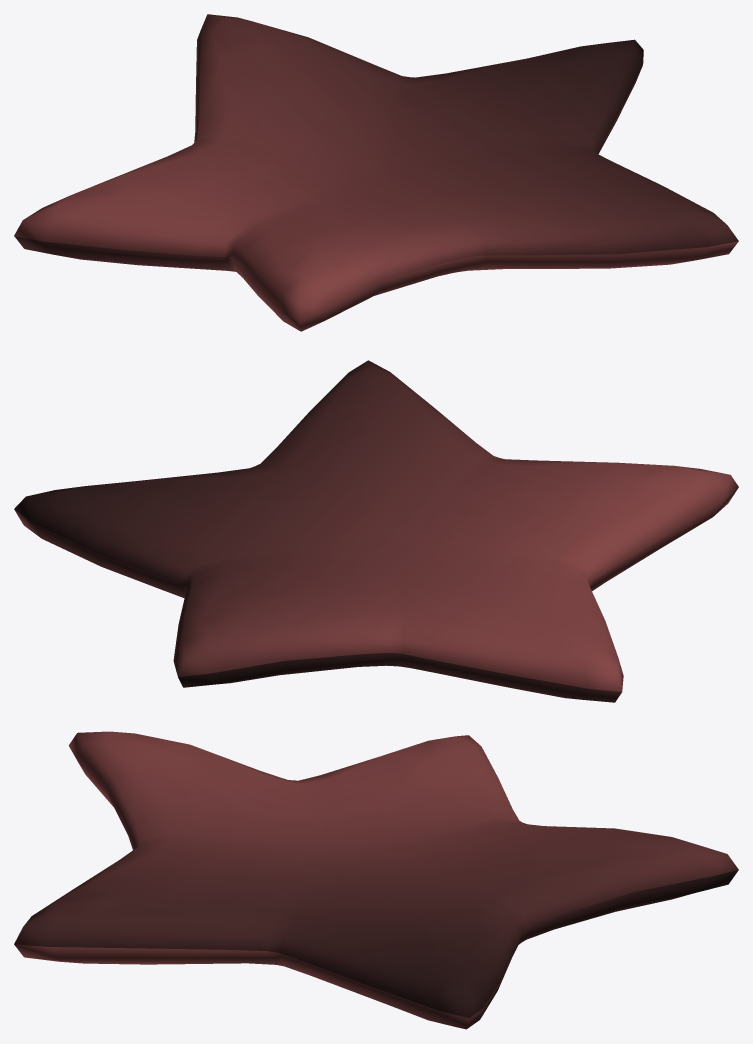
File: star.glb
3 renders of one model, top to bottom at view 1: azimuth 30°, elevation 25°; view 2: azimuth 150°, elevation 25°; view 3: azimuth 270°, elevation 25°, orthographic. The views are drawn at different scales.
Parts seen in each view (by area): view 1: cc_star8; view 2: cc_star8; view 3: cc_star8.
Boxes of the visible parts, x1=… form: cc_star8: x1=14, y1=14, x2=738, y2=331; cc_star8: x1=14, y1=360, x2=738, y2=702; cc_star8: x1=14, y1=731, x2=738, y2=1029.
Bounding box in the file's own units: 0.1374 × 0.0197 × 0.1382.
1 material, 1 textured.
